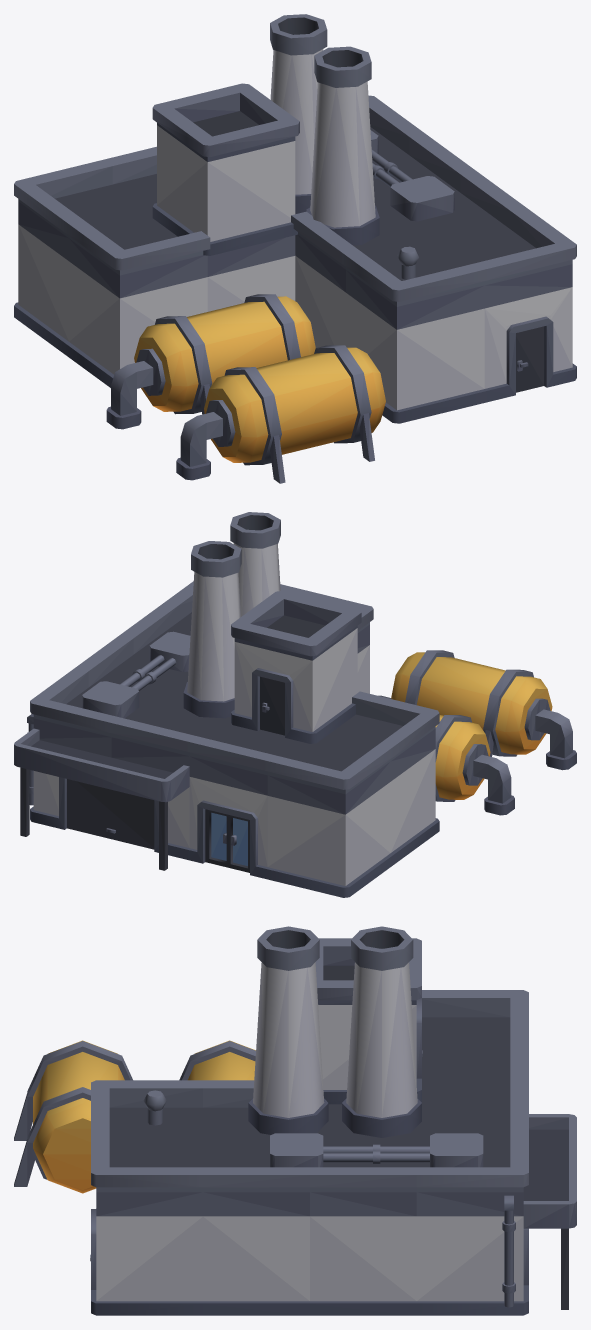
File: ind_c.glb
The picture shows the model from 3 angles, top to bottom: view 1: azimuth 30°, elevation 25°; view 2: azimuth 150°, elevation 25°; view 3: azimuth 270°, elevation 25°; orthographic projection. The views are drawn at different scales.
Visible parts, largest first — view 1: building-c; view 2: building-c; view 3: building-c.
Part boxes in pixels (bbox=[...]): building-c: bbox=[14, 14, 576, 483]; building-c: bbox=[14, 512, 576, 897]; building-c: bbox=[14, 926, 576, 1315].
Bounding box in the file's own units: 1.88 × 1.25 × 2.11.
